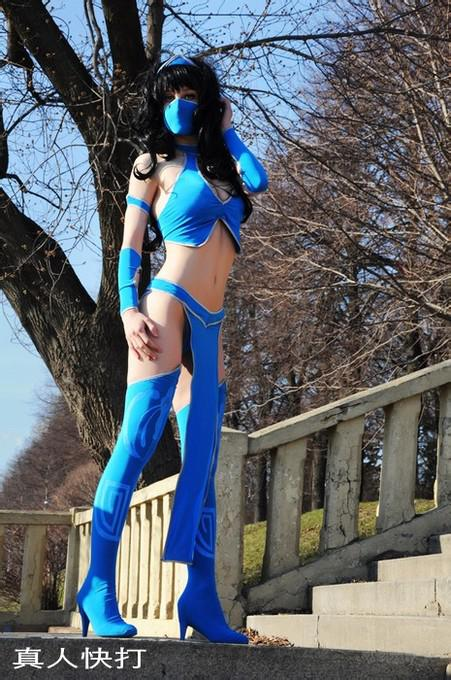OK: (157, 85, 208, 136)
